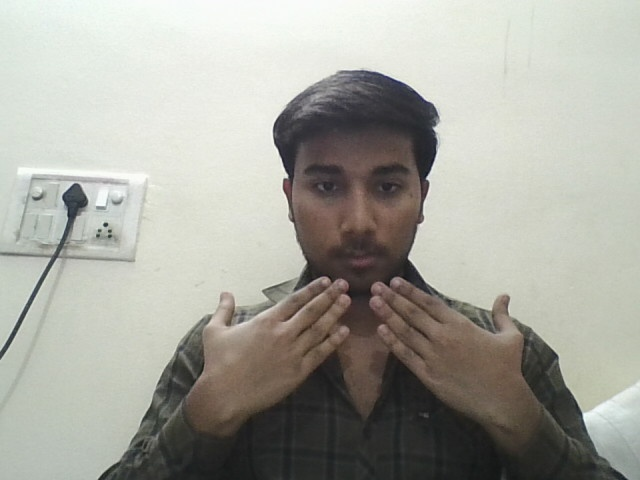thanks: (153, 269, 576, 435)
